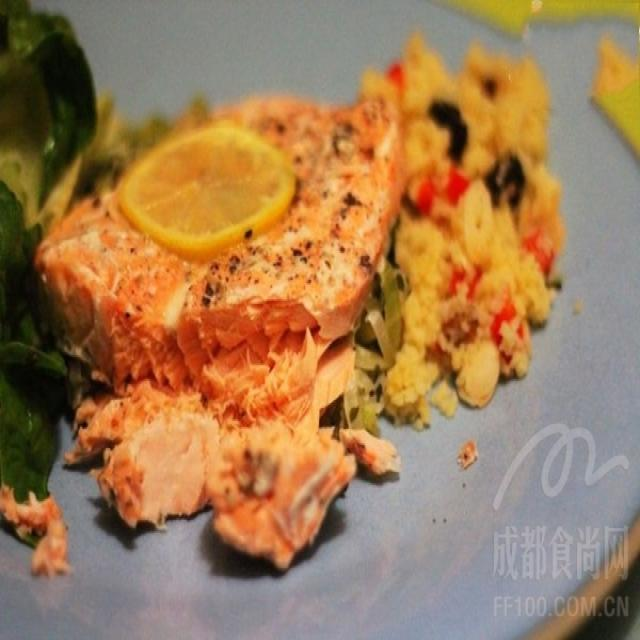熟制海鲜: (26, 24, 609, 589)
